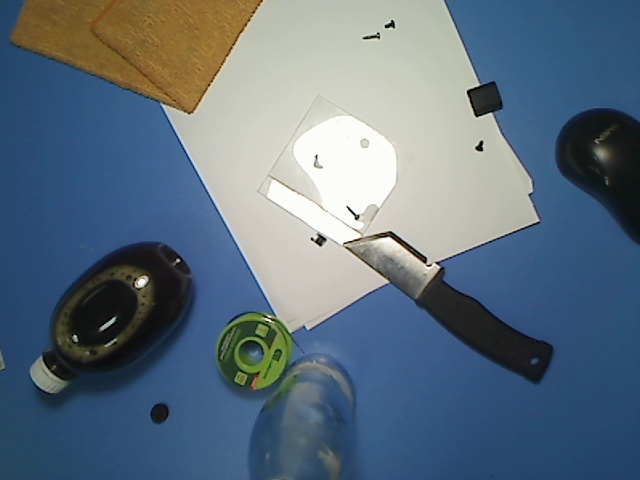plast_bottle: (25, 236, 199, 401)
